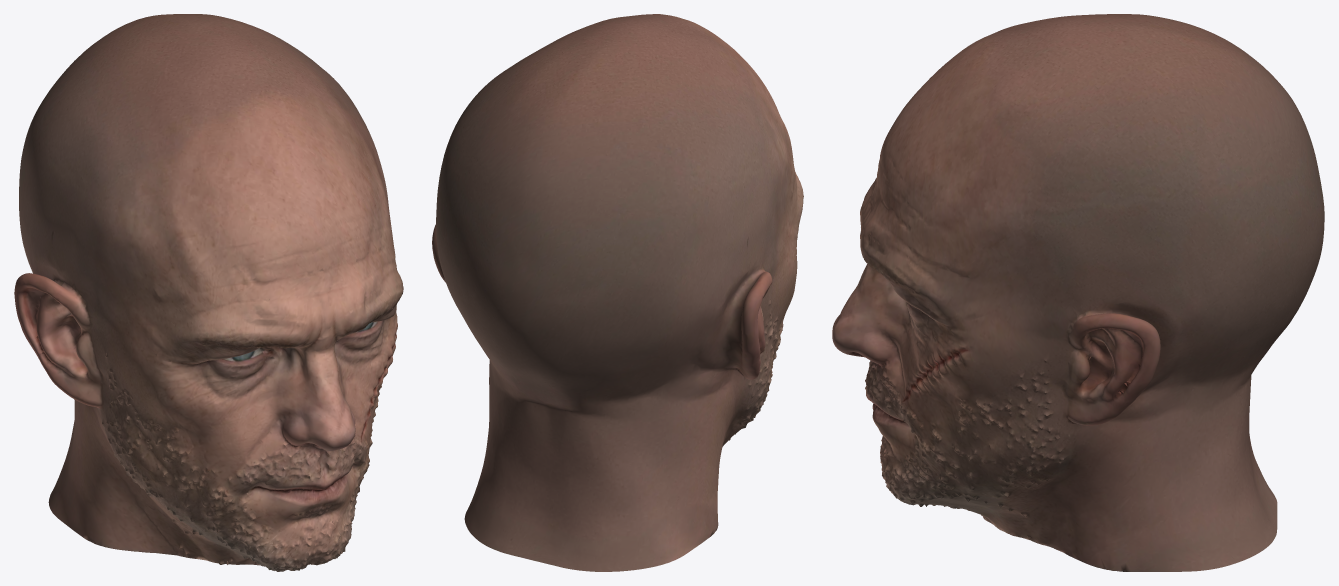
File: head_50k.glb
The picture shows the model from 3 angles, left to right: view 1: azimuth 30°, elevation 25°; view 2: azimuth 150°, elevation 25°; view 3: azimuth 270°, elevation 25°; orthographic projection. The views are drawn at different scales.
Visible parts, largest first — view 1: mesh_node_Default; view 2: mesh_node_Default; view 3: mesh_node_Default.
Part boxes in pixels (x1=…): mesh_node_Default: x1=14, y1=14, x2=403, y2=571; mesh_node_Default: x1=432, y1=14, x2=803, y2=571; mesh_node_Default: x1=832, y1=14, x2=1324, y2=571.
Size of the model in its own units: 0.9992 by 1.37 by 1.24.
Materials: 1 (1 with a texture image).
